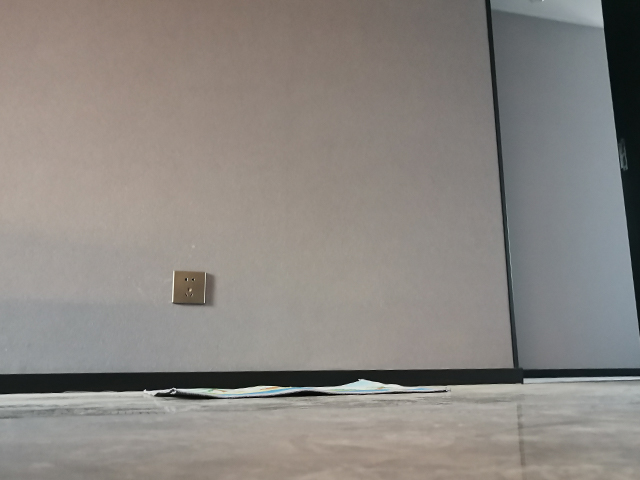carpet: (140, 376, 451, 401)
